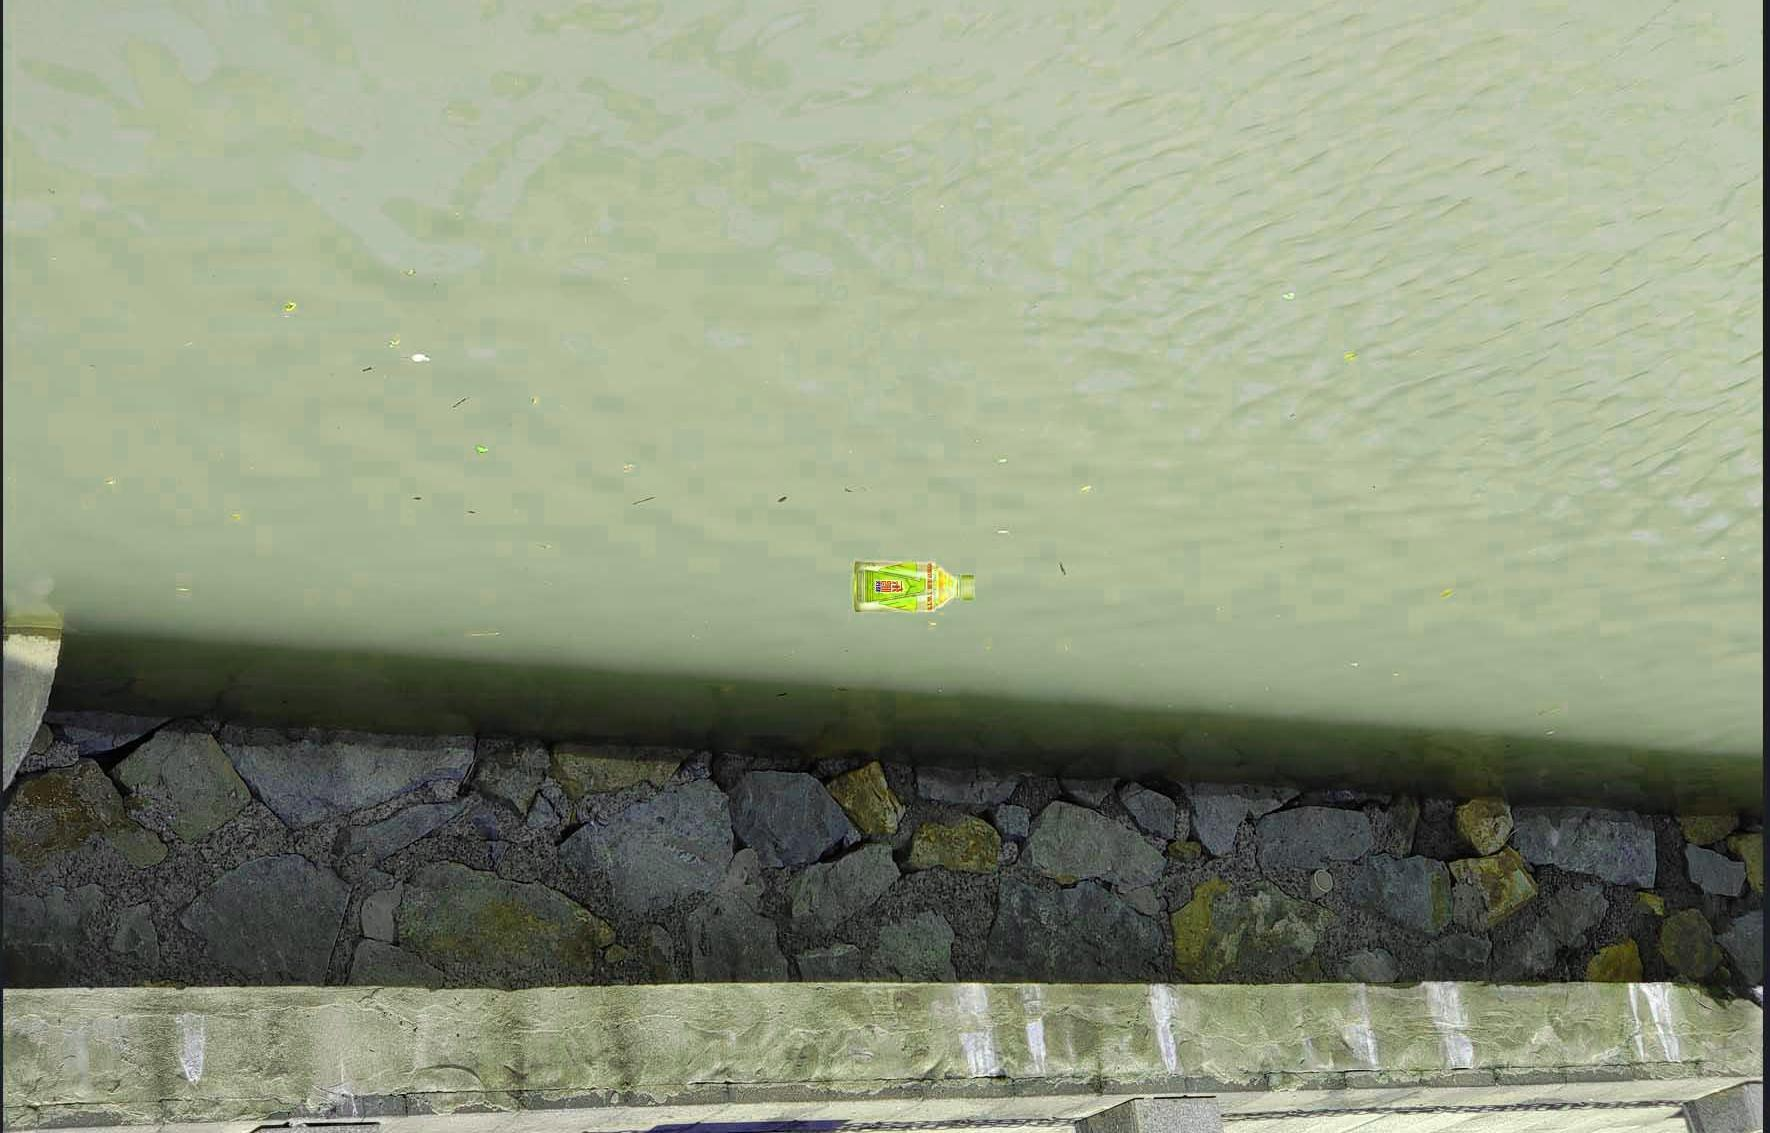Plastic: (849, 559, 983, 616)
